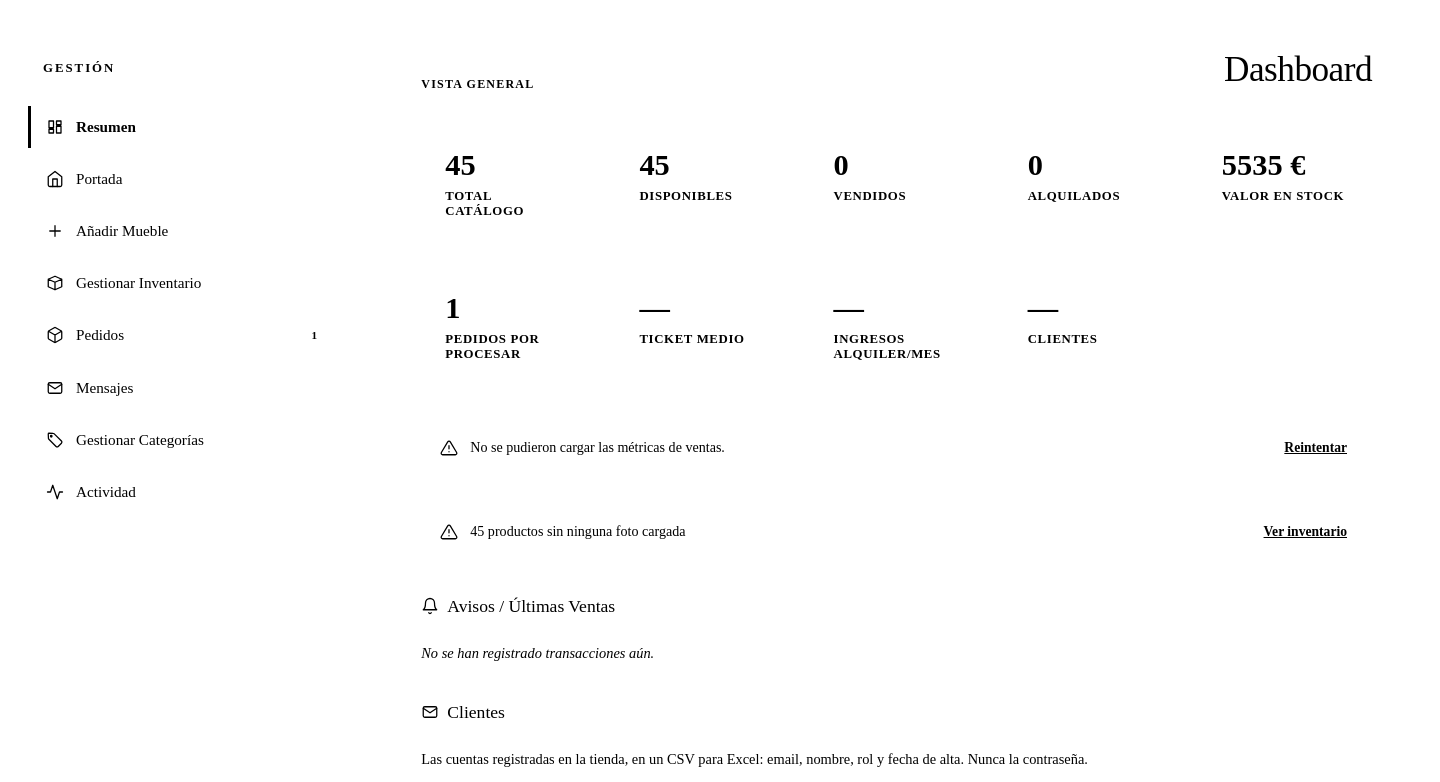
Navegación — lo que se conserva al cambiar de pestaña y volver › el filtro de pedidos
The width and height of the screenshot is (1440, 782).
Click the button "Pedidos 1" at (100, 335), box [28,314,341,357]
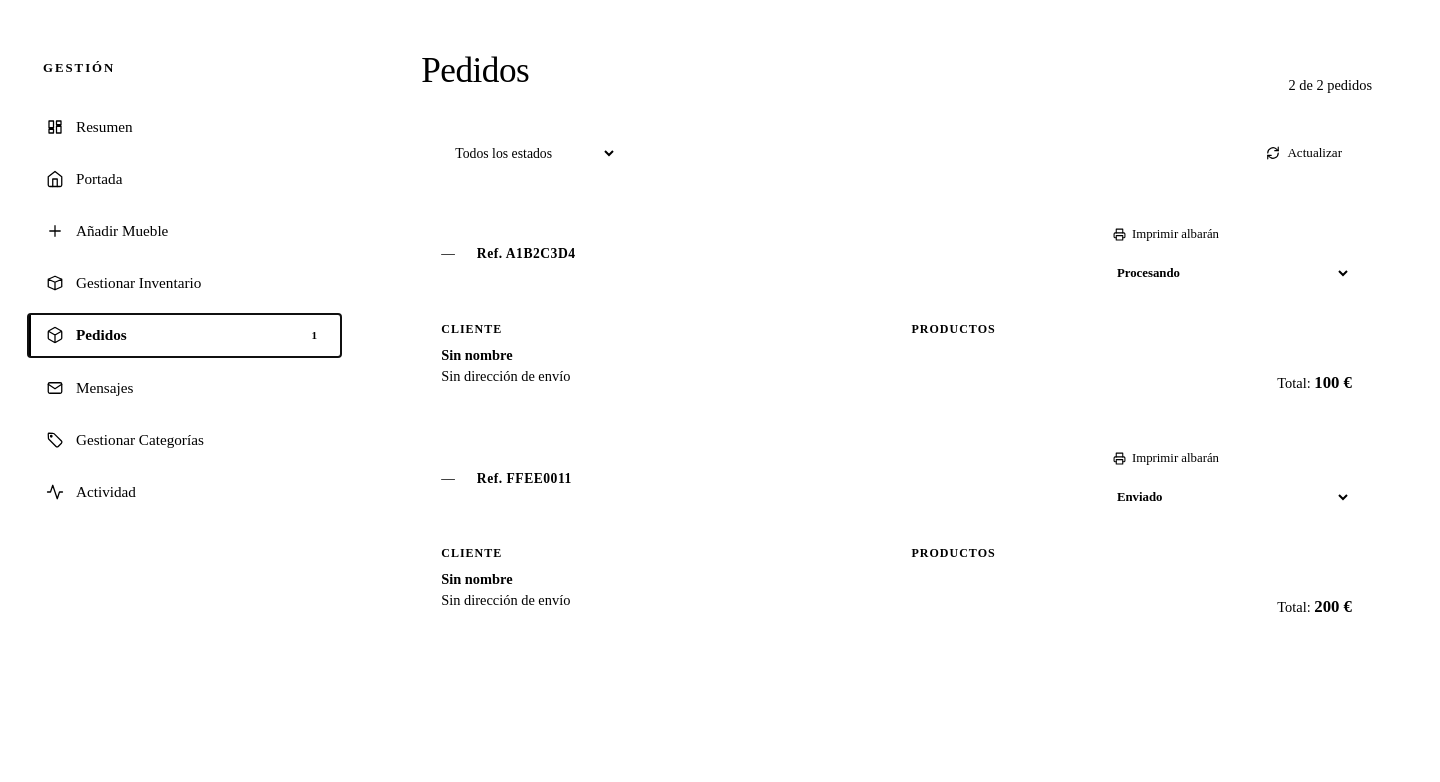
Select "Enviado" in the dropdown named "Filtrar pedidos por estado" at (527, 153), box [437,136,617,171]
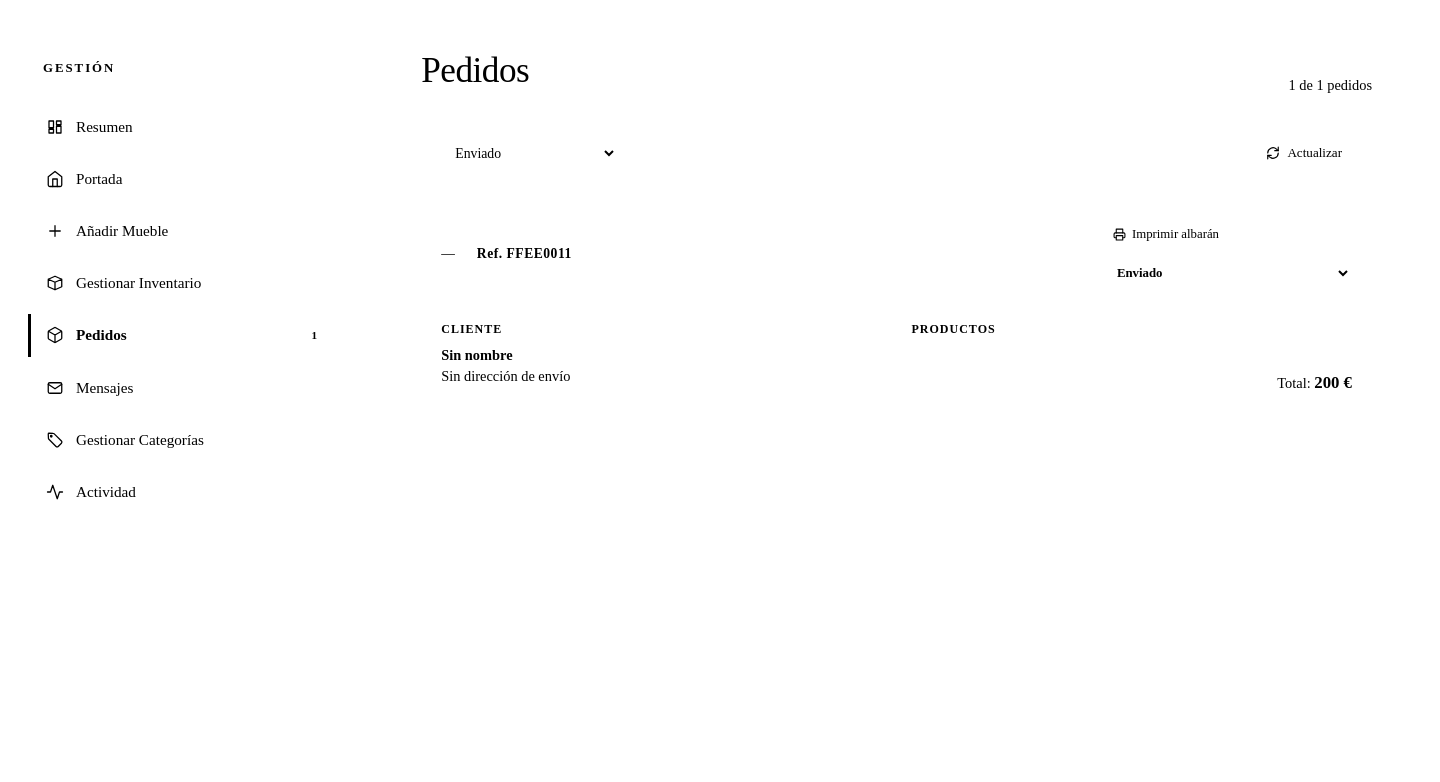
Click the button "Resumen" at (104, 126), box [28,106,341,148]
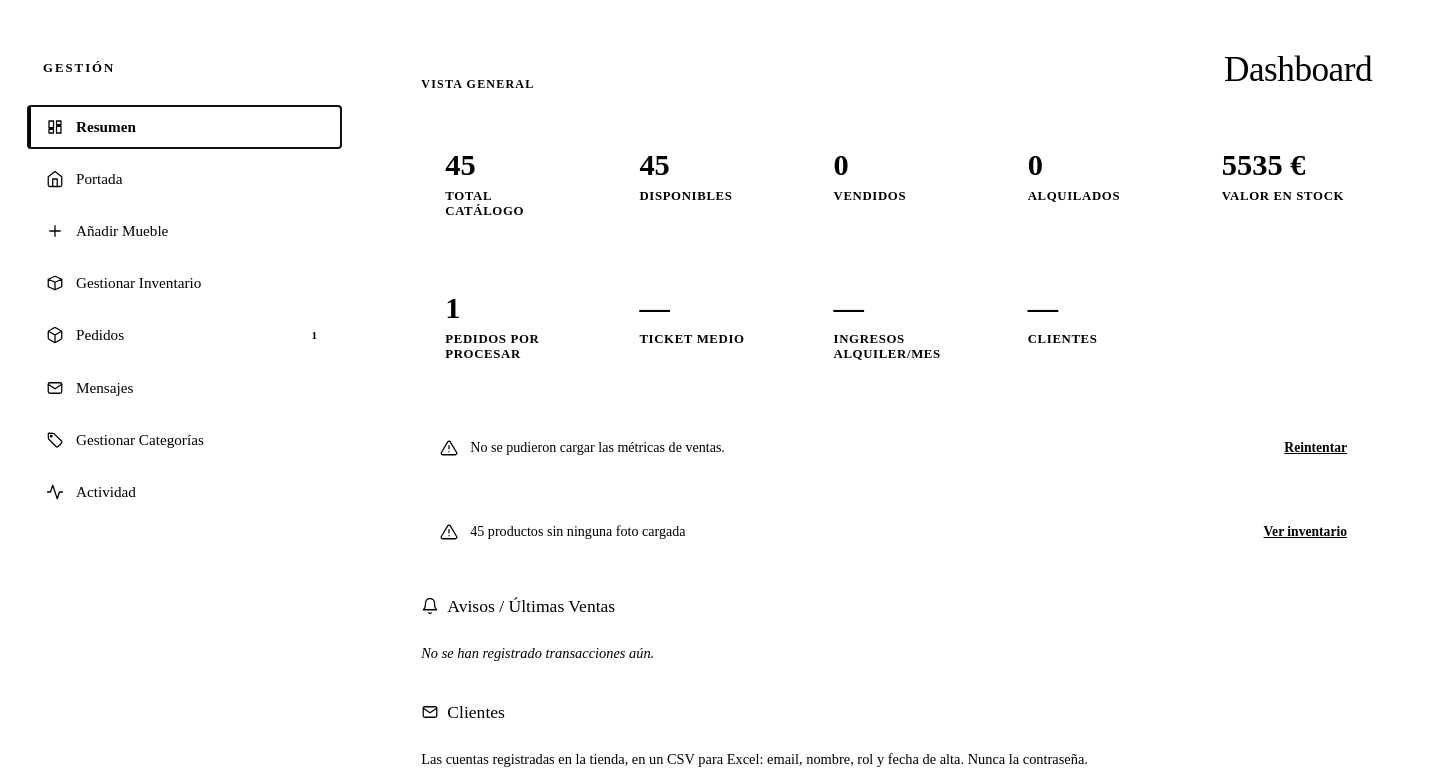
Click the button "Pedidos 1" at (100, 335), box [28,314,341,357]
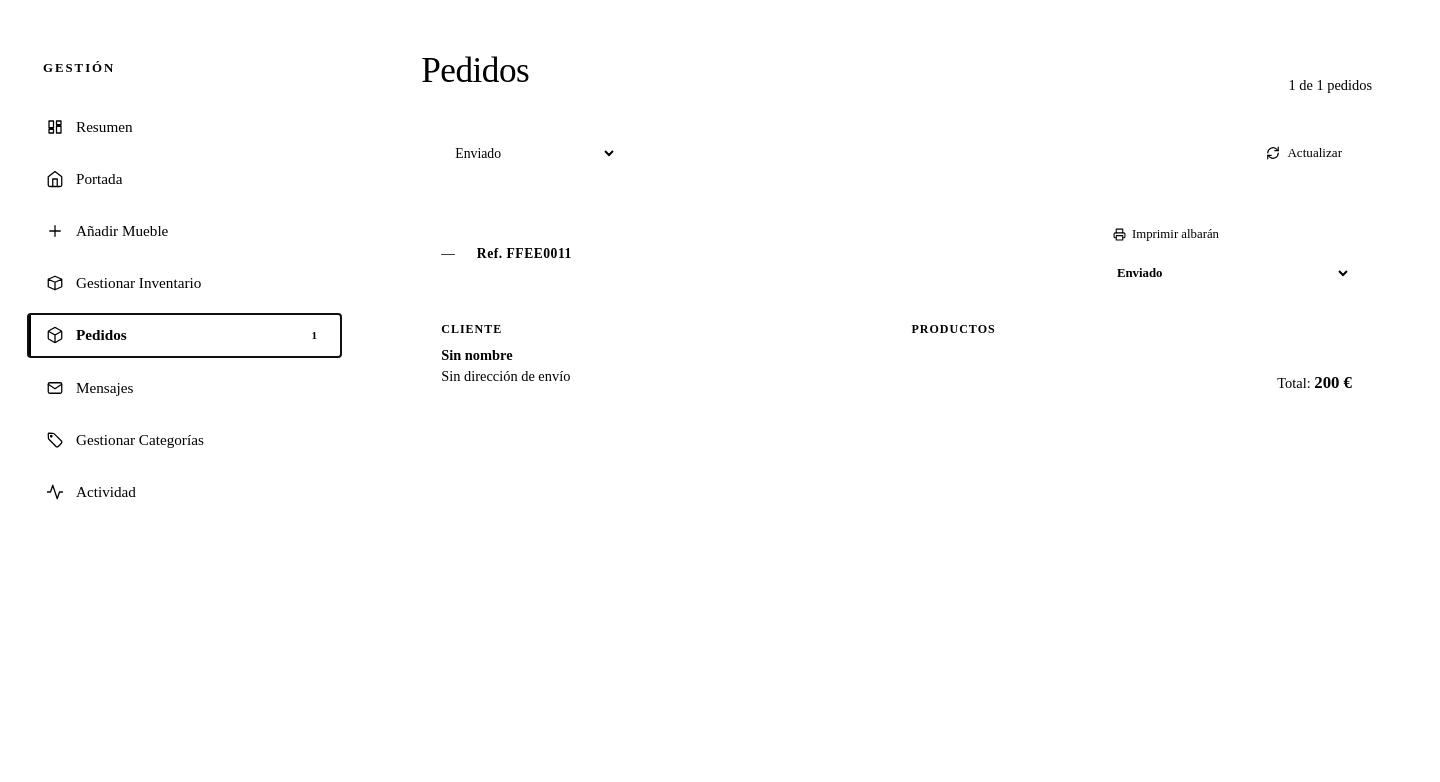
Result: the dropdown named "Filtrar pedidos por estado" shows "Enviado" at [437,136,617,171]
Result: the text "1 de 1 pedidos" is shown at [1288,77,1372,94]
